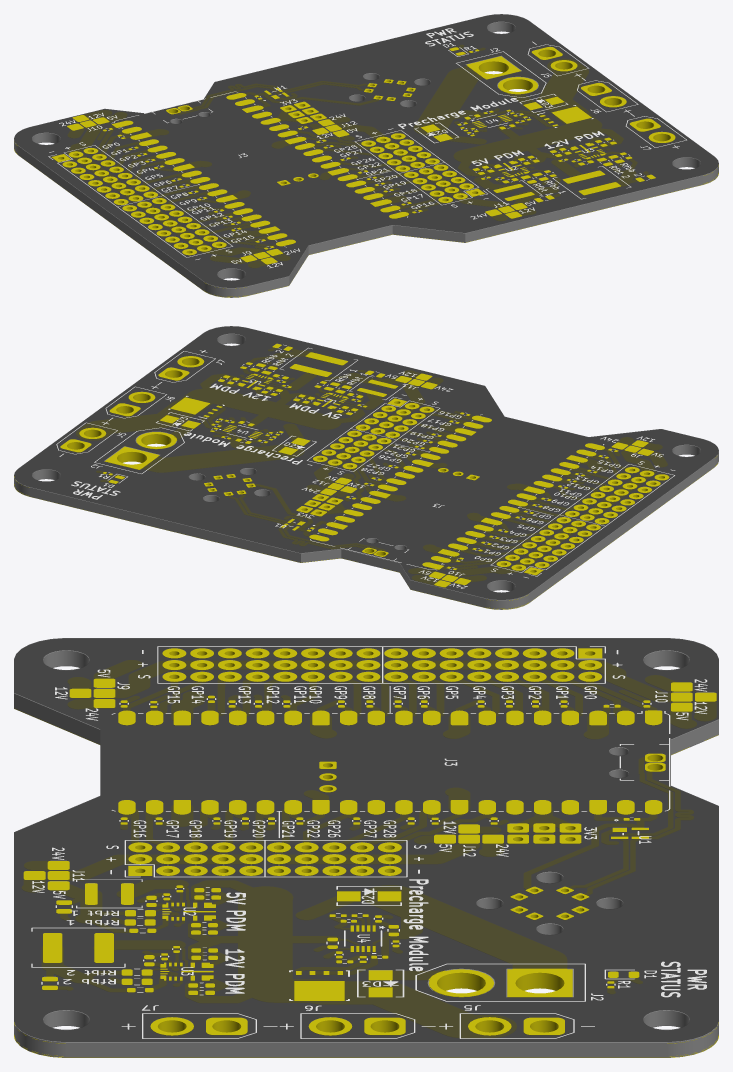
Rendered from Ready_Chain_2.glb.
3 views of the same model, one above another, from view 1: azimuth 30°, elevation 25°; view 2: azimuth 150°, elevation 25°; view 3: azimuth 270°, elevation 25° (orthographic). The views are drawn at different scales.
Parts seen in each view (by area): view 1: =>[0:1:1:4], =>[0:1:1:5], =>[0:1:1:2], =>[0:1:1:3]; view 2: =>[0:1:1:4], =>[0:1:1:5], =>[0:1:1:2], =>[0:1:1:3]; view 3: =>[0:1:1:4], =>[0:1:1:5], =>[0:1:1:2], =>[0:1:1:3].
Boxes of the visible parts, x1,y1,x2,y2 form: =>[0:1:1:4]: (14, 14, 718, 297); =>[0:1:1:5]: (14, 15, 718, 297); =>[0:1:1:2]: (14, 45, 718, 297); =>[0:1:1:3]: (48, 28, 686, 268); =>[0:1:1:4]: (14, 326, 718, 609); =>[0:1:1:5]: (14, 327, 718, 609); =>[0:1:1:2]: (14, 343, 717, 609); =>[0:1:1:3]: (56, 344, 675, 588); =>[0:1:1:4]: (14, 638, 718, 1057); =>[0:1:1:5]: (14, 639, 718, 1057); =>[0:1:1:2]: (14, 648, 718, 1057); =>[0:1:1:3]: (31, 646, 707, 1038).
Bounding box in the file's own units: 0.0876 × 0.00166 × 0.0646.
